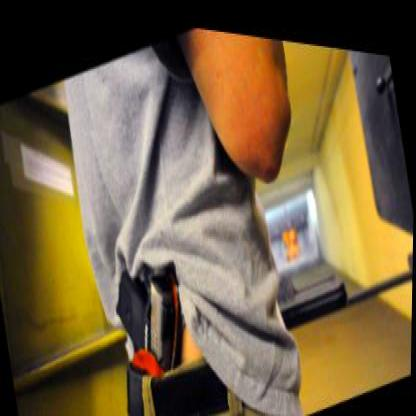pistol: (108, 233, 192, 387)
